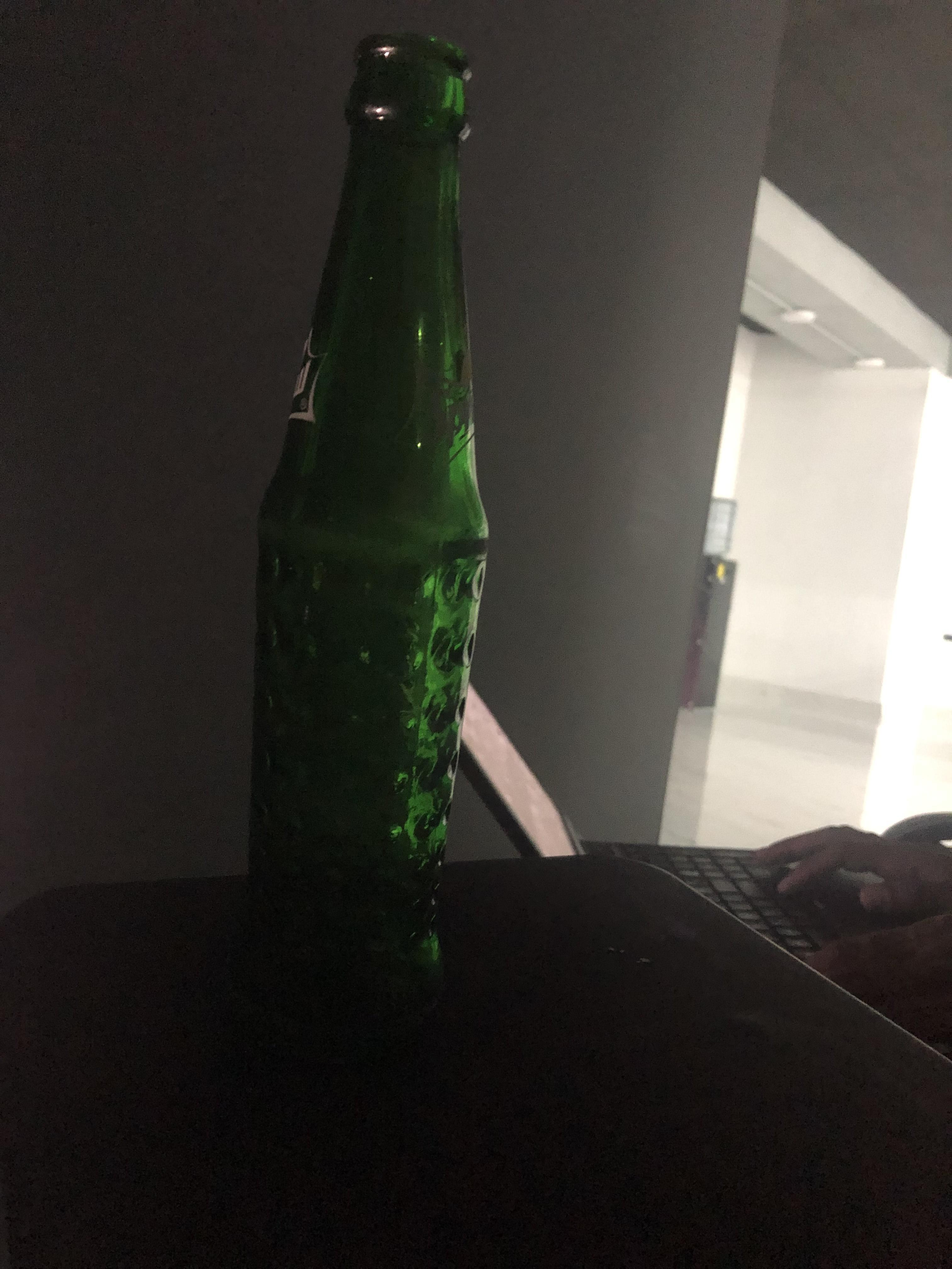bottle-glass: (229, 21, 493, 1066)
